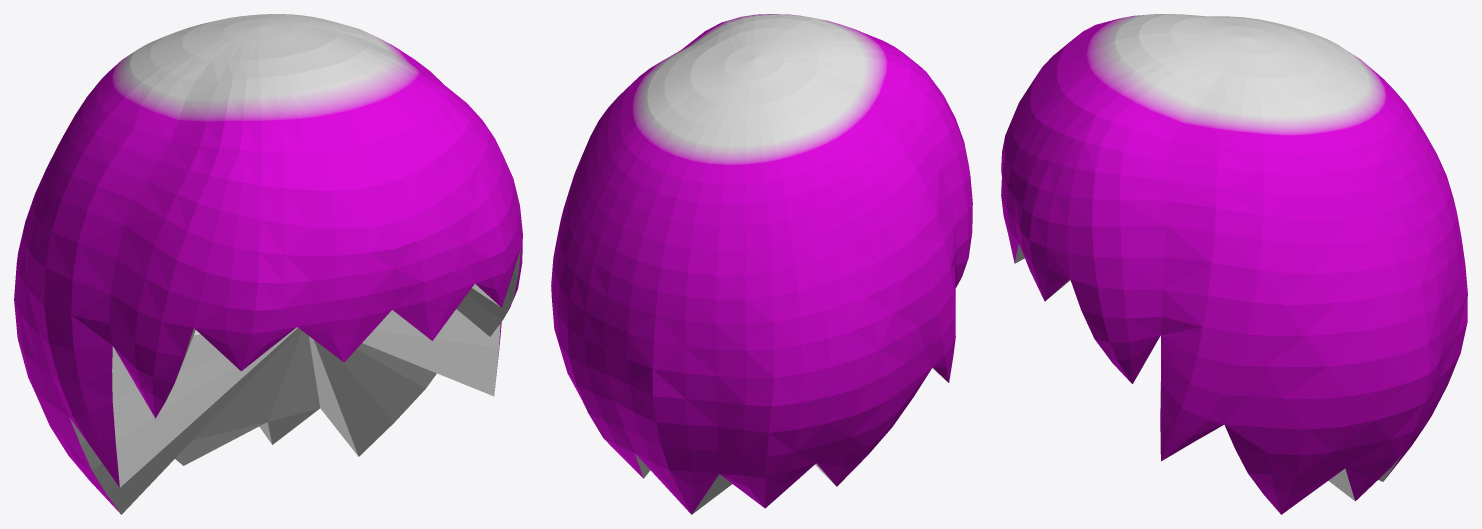
The picture shows the model from 3 angles, left to right: view 1: azimuth 30°, elevation 25°; view 2: azimuth 150°, elevation 25°; view 3: azimuth 270°, elevation 25°; orthographic projection. The views are drawn at different scales.
Parts seen in each view (by area): view 1: shape; view 2: shape; view 3: shape.
Boxes of the visible parts, x1,y1,x2,y2 form: shape: (14,14,522,514); shape: (551,14,972,514); shape: (1001,14,1467,514).
Size of the model in its own units: 63.27 by 70.01 by 65.88.
